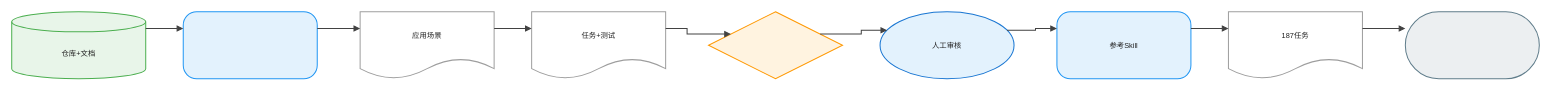
The diagram is 1552 pixels wide and 91 high, and some of its shapes have lost their labels. The box of each missing label's shape, as (x1, y1, x2, y2) in pixels:
固定Harness: (1405, 11, 1540, 79)
知识图谱: (182, 11, 317, 79)
自动过滤: (708, 11, 843, 79)
